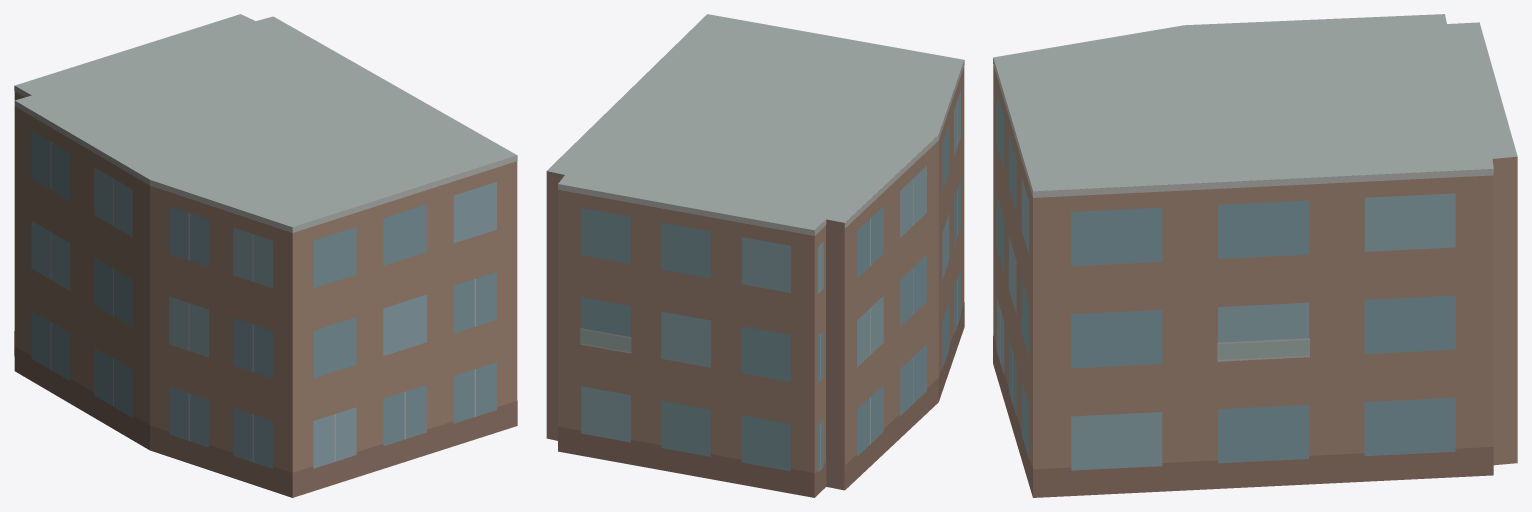
Rendered from survey-upis-32776904.glb.
3 renders of one model, left to right at view 1: azimuth 30°, elevation 25°; view 2: azimuth 150°, elevation 25°; view 3: azimuth 270°, elevation 25°, orthographic. The views are drawn at different scales.
Visible parts, largest first — view 1: survey-upis-32776904.tmp; view 2: survey-upis-32776904.tmp; view 3: survey-upis-32776904.tmp.
Boxes of the visible parts, <box> form: survey-upis-32776904.tmp: <box>14,14,517,497</box>; survey-upis-32776904.tmp: <box>546,14,964,497</box>; survey-upis-32776904.tmp: <box>993,14,1517,497</box>.
Size of the model in its own units: 14.22 by 11.45 by 17.77.
